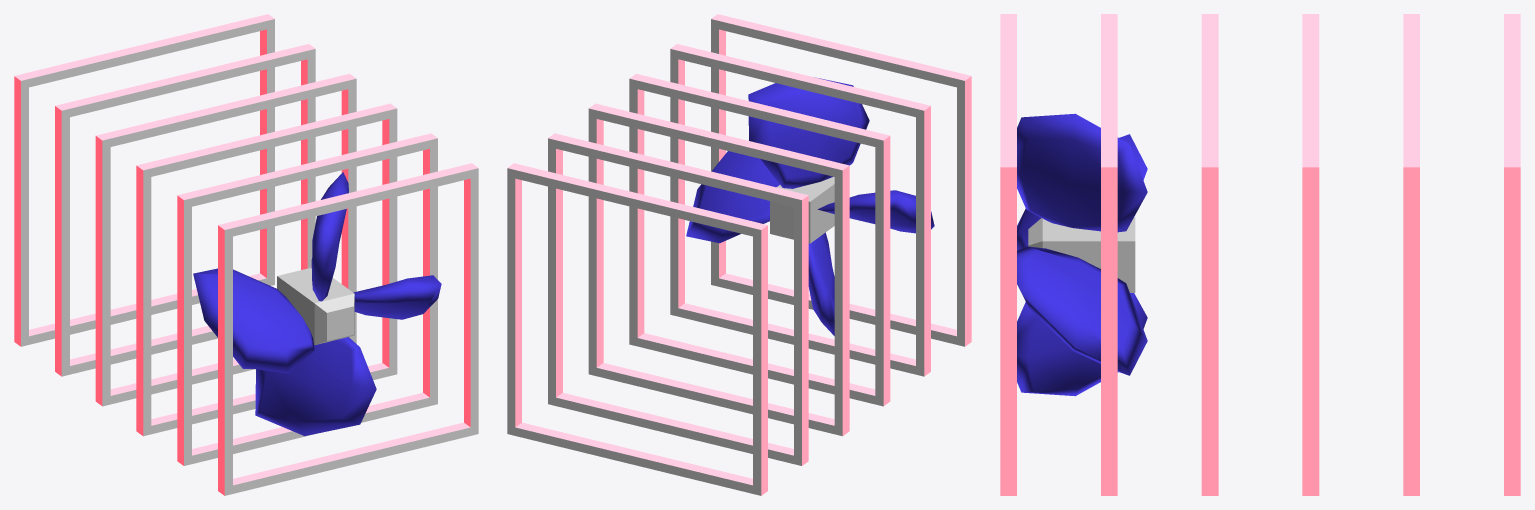
File: fan2.gltf
3 renders of one model, left to right at view 1: azimuth 30°, elevation 25°; view 2: azimuth 150°, elevation 25°; view 3: azimuth 270°, elevation 25°, orthographic. The views are drawn at different scales.
Visible parts, largest first — view 1: Cube.009, Cube.016, Cube.013; view 2: Cube.009, Cube.016, Cube.013; view 3: Cube.009, Cube.016, Cube.013.
Part boxes in pixels (x1,y1,x2,y2): Cube.009: (14, 14, 478, 495); Cube.016: (193, 172, 441, 436); Cube.013: (277, 267, 354, 345); Cube.009: (507, 14, 971, 495); Cube.016: (686, 77, 934, 335); Cube.013: (770, 176, 834, 243); Cube.009: (1000, 14, 1520, 495); Cube.016: (1017, 113, 1147, 396); Cube.013: (1028, 217, 1135, 292).
Bounding box in the file's own units: 0.5857 × 0.5857 × 0.8405.
